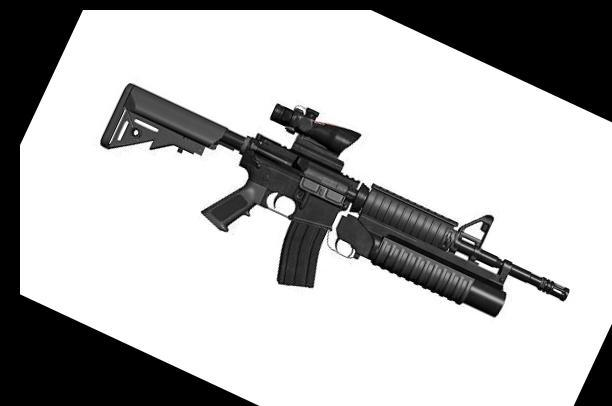larga: (99, 82, 570, 318)
